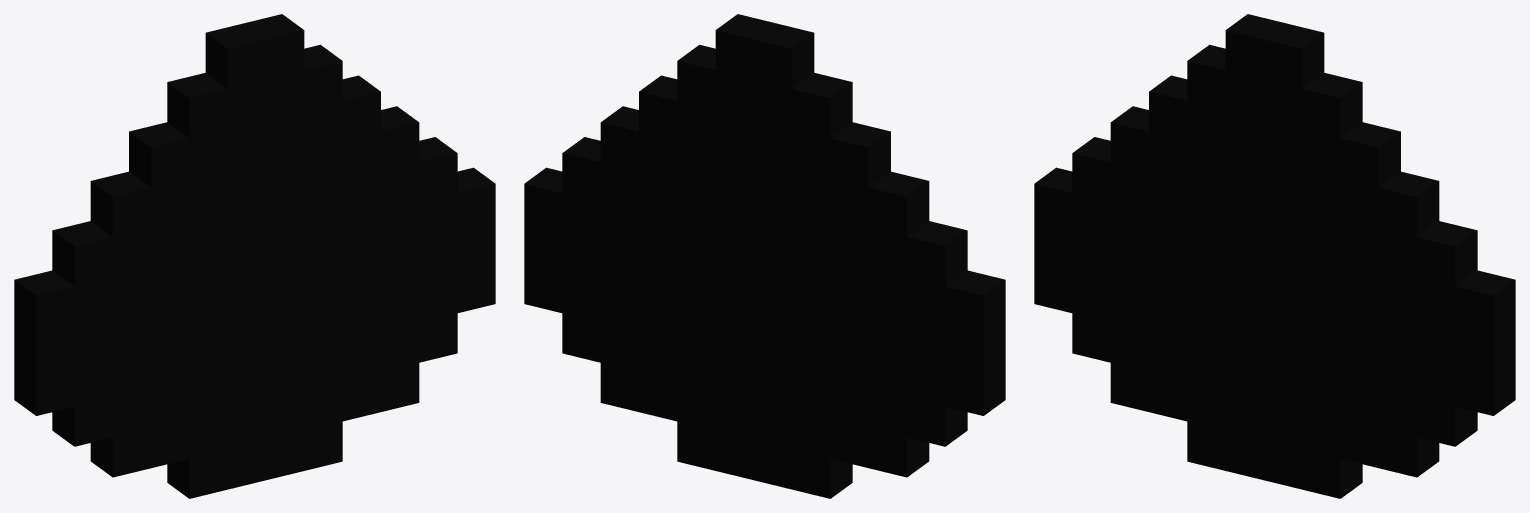
File: Sugar.obj
3 views of the same model, side by side, from view 1: azimuth 30°, elevation 25°; view 2: azimuth 150°, elevation 25°; view 3: azimuth 330°, elevation 25° (orthographic).
Parts seen in each view (by area): view 1: Sugar_Plane.249; view 2: Sugar_Plane.249; view 3: Sugar_Plane.249.
Boxes of the visible parts, left/top/right/bottom form: Sugar_Plane.249: left=14, top=14, right=495, bottom=498; Sugar_Plane.249: left=524, top=14, right=1005, bottom=498; Sugar_Plane.249: left=1034, top=14, right=1515, bottom=498.
Bounding box in the file's own units: 0.5307 × 0.4865 × 0.0442.
